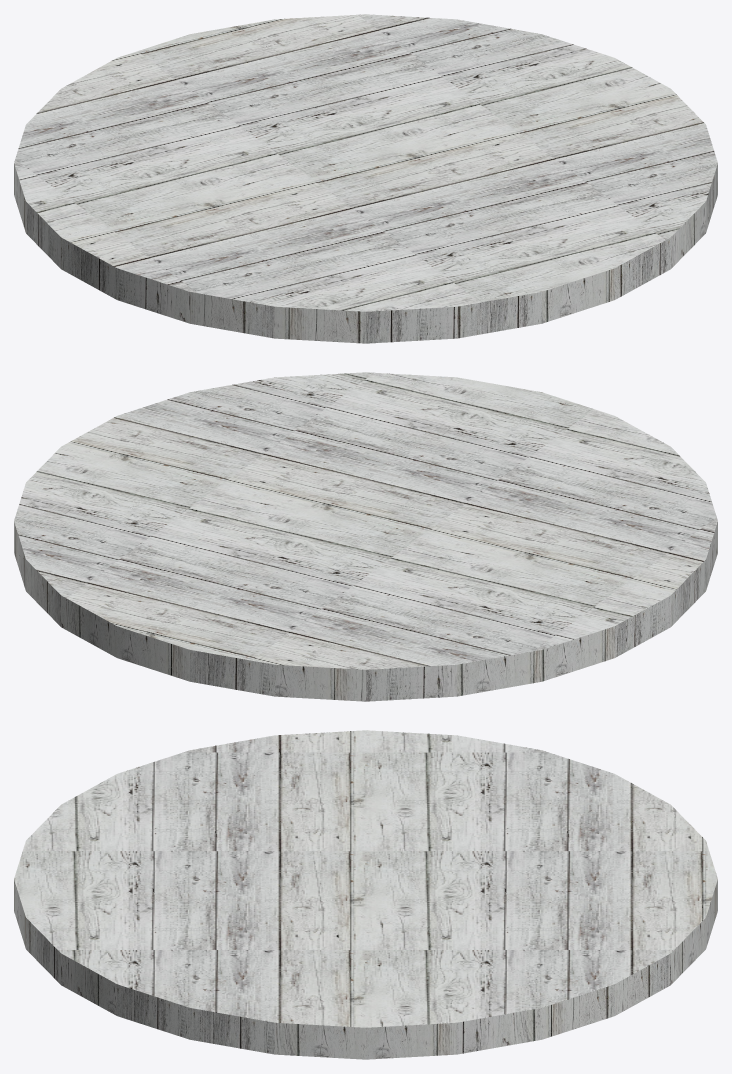
File: tabletop.obj
3 views of the same model, one above another, from view 1: azimuth 30°, elevation 25°; view 2: azimuth 150°, elevation 25°; view 3: azimuth 270°, elevation 25° (orthographic).
Parts seen in each view (by area): view 1: tabletop_model_normalized; view 2: tabletop_model_normalized; view 3: tabletop_model_normalized.
Part boxes in pixels (x1,y1,x2,y2): tabletop_model_normalized: [14, 14, 717, 343]; tabletop_model_normalized: [14, 372, 717, 701]; tabletop_model_normalized: [14, 730, 717, 1059].
Bounding box in the file's own units: 0.6963 × 0.0348 × 0.6963.
